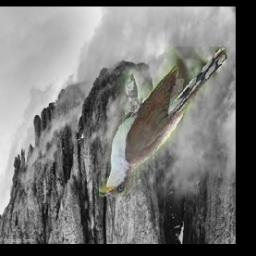Cuckoo: (100, 46, 228, 197)
